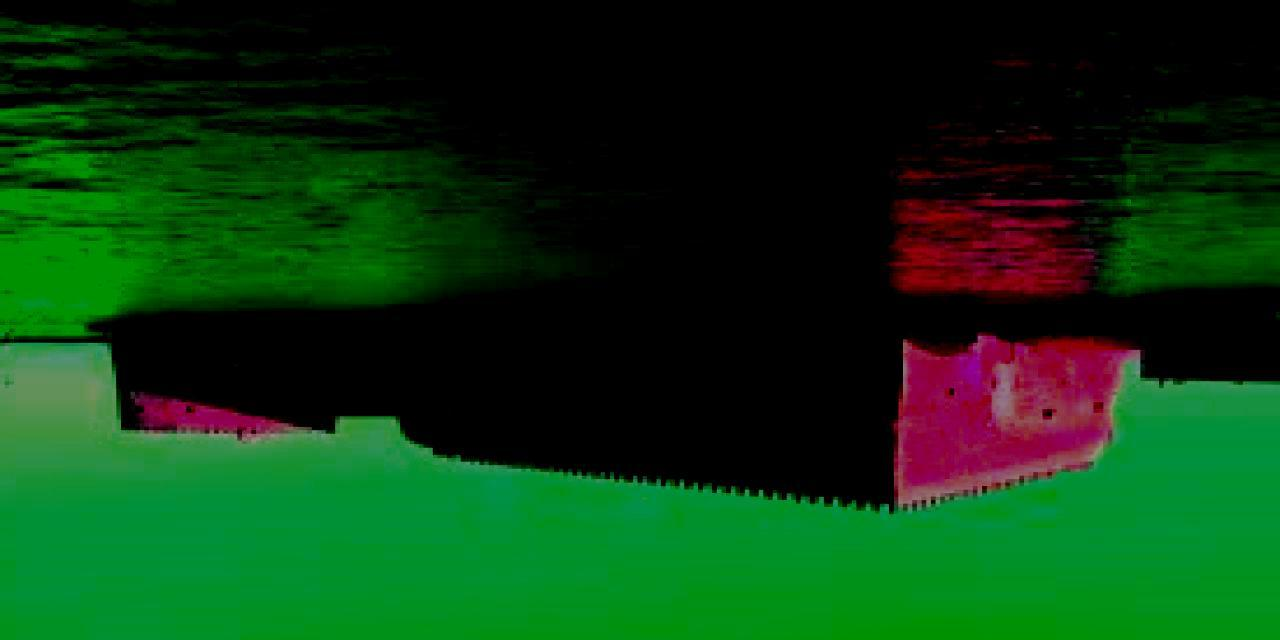Kules: (86, 319, 1126, 520)
